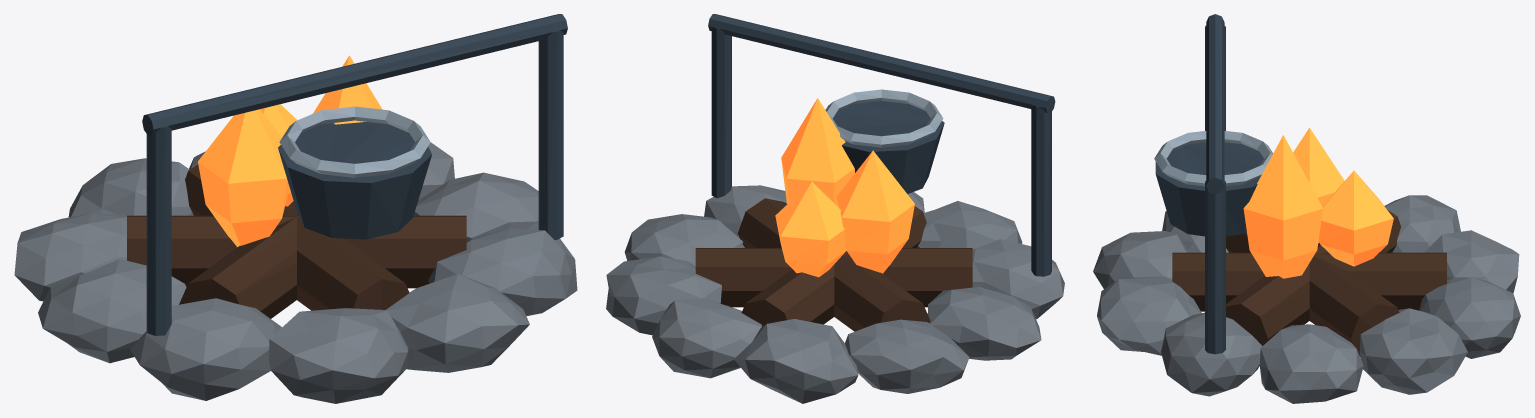
File: building_campfire.glb
3 renders of one model, left to right at view 1: azimuth 30°, elevation 25°; view 2: azimuth 150°, elevation 25°; view 3: azimuth 270°, elevation 25°, orthographic. The views are drawn at different scales.
Visible parts, largest first — view 1: body, flame_0, flame_1, flame_2; view 2: body, flame_0, flame_2, flame_1; view 3: body, flame_1, flame_2, flame_0.
Part boxes in pixels (x1,y1,x2,y2): body: (14, 14, 577, 403); flame_0: (198, 109, 288, 246); flame_1: (313, 55, 382, 124); flame_2: (260, 104, 297, 206); body: (606, 14, 1064, 403); flame_0: (836, 150, 914, 273); flame_2: (775, 181, 846, 277); flame_1: (781, 98, 854, 206); body: (1093, 14, 1520, 403); flame_1: (1243, 135, 1323, 278); flame_2: (1319, 170, 1393, 266); flame_0: (1293, 128, 1344, 243).
Size of the model in its own units: 1.78 by 0.9799 by 1.64.
